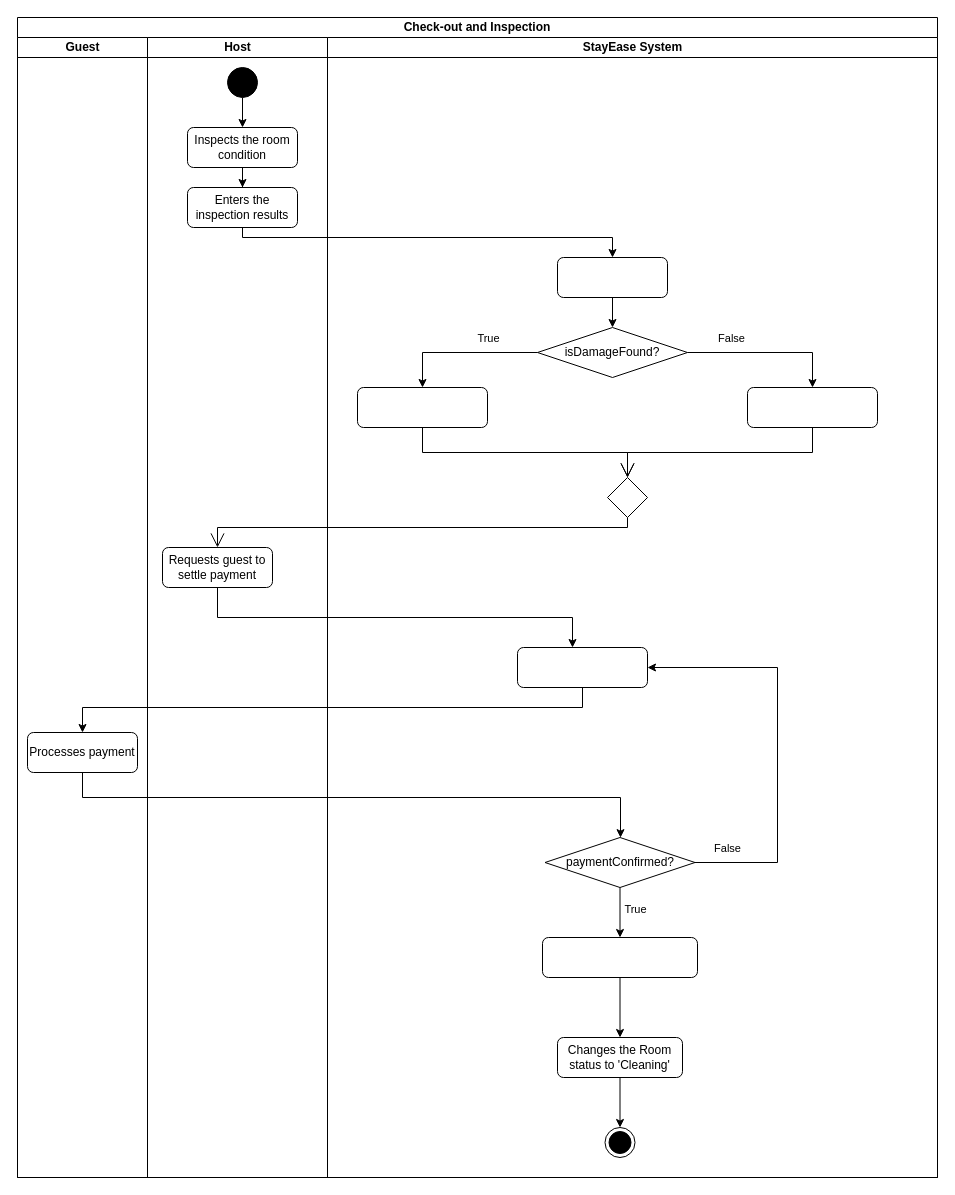
The diagram is 955 pixels wide and 1195 high, and some of its shapes have lost their labels. The centre of each missing label's shape, as x and y in pixels:
"Calculates Damage Fee & Add to Invoice" belongs at (422,407).
"Calculates Final Invoice" belongs at (812,407).
"Evaluates the inspection report" belongs at (612,277).
"Sends payment request to guest" belongs at (582,667).
"Updates the Reservation status to 'Completed'" belongs at (620,957).
